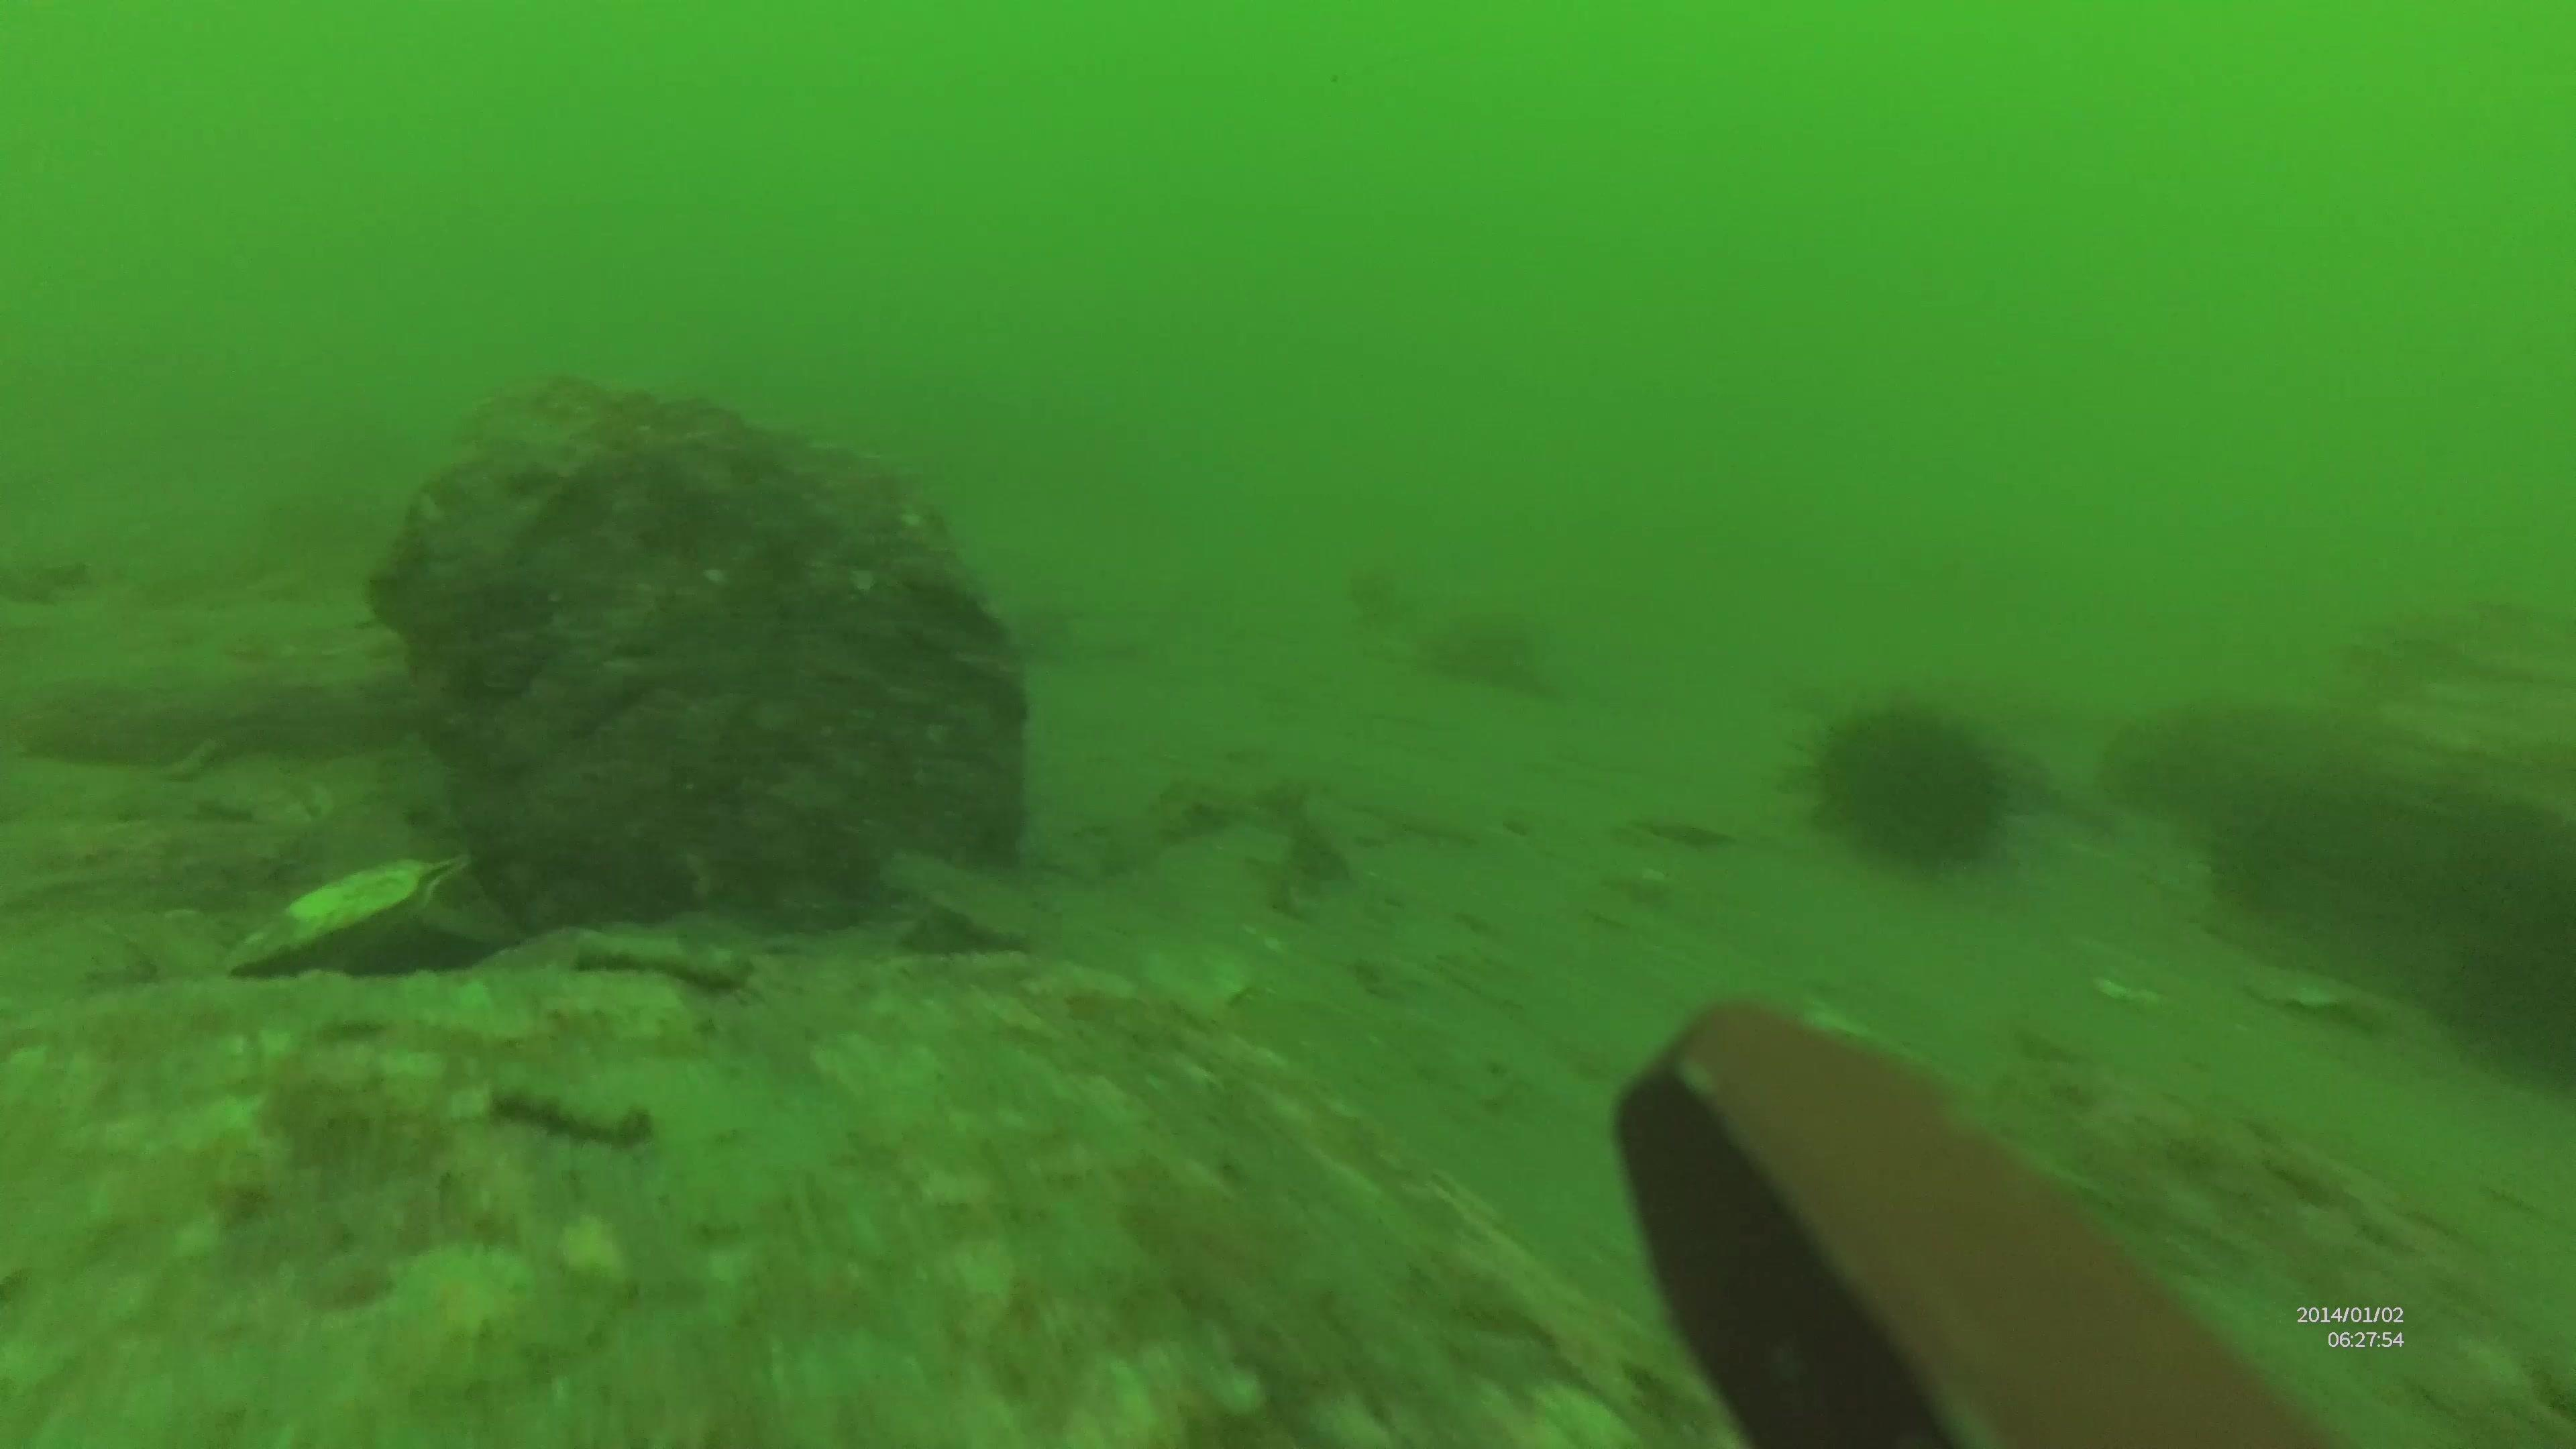echinus: (1799, 694, 2017, 883)
